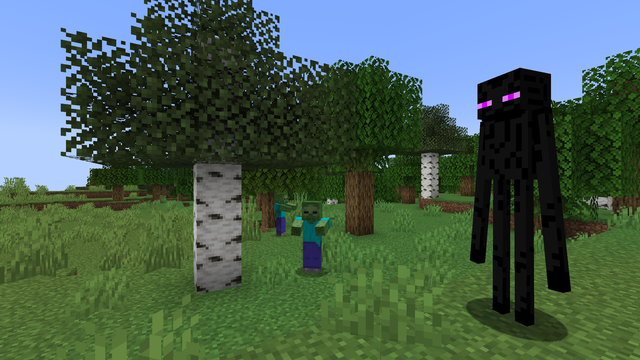endermens: (472, 55, 555, 337)
zombies: (298, 202, 326, 276), (272, 193, 288, 236)
